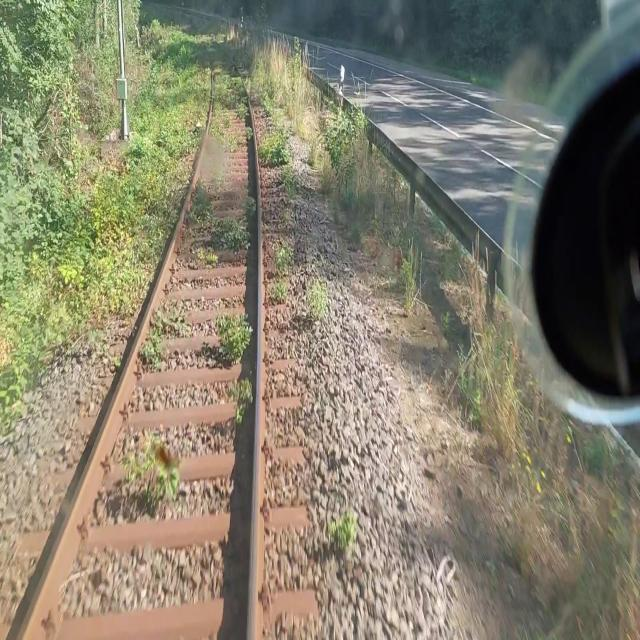Plant: (79, 21, 213, 375), (211, 28, 331, 206), (181, 176, 255, 279), (117, 423, 187, 516), (139, 300, 192, 376), (209, 69, 247, 156), (213, 302, 255, 370), (324, 501, 363, 560), (272, 234, 294, 306), (229, 372, 255, 428), (303, 274, 333, 322), (236, 101, 253, 141)
